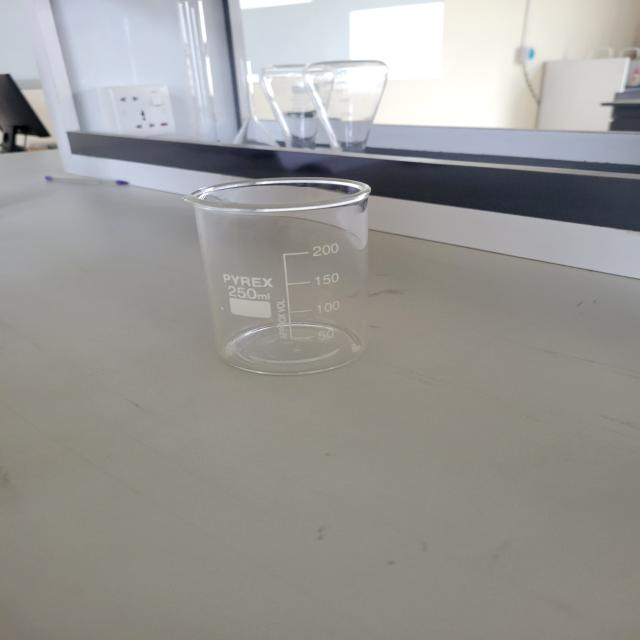Beaker: (180, 171, 390, 389)
